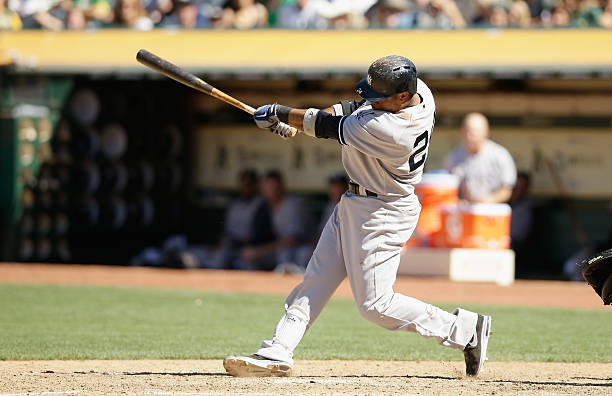bita: (135, 47, 292, 135)
